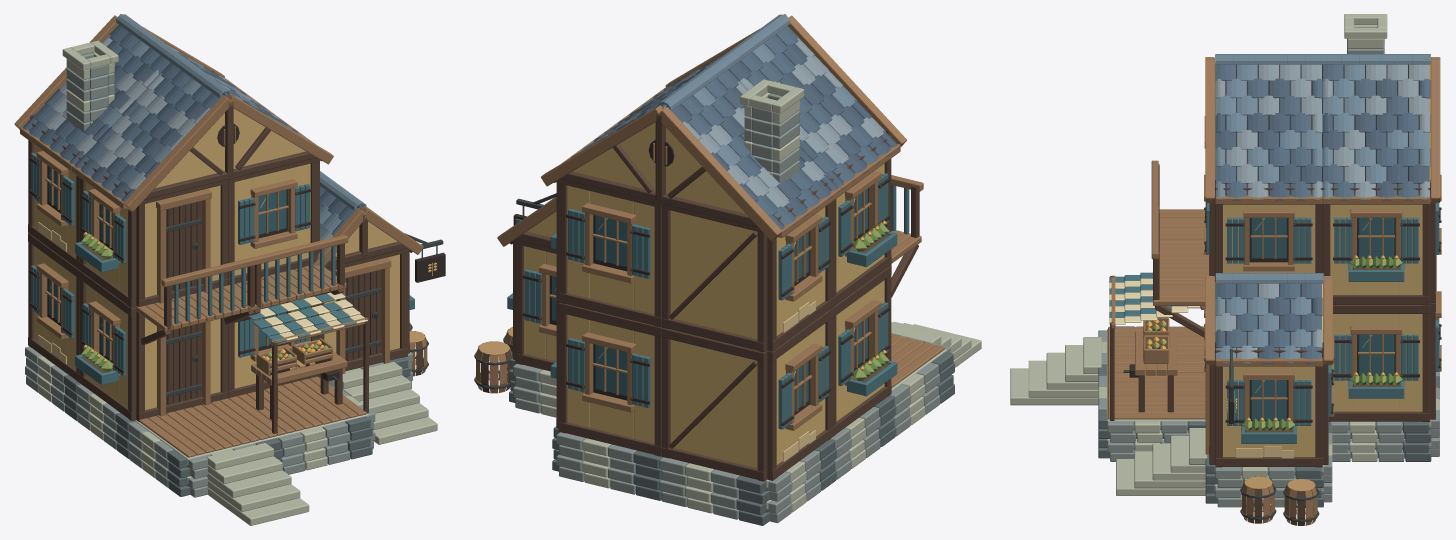
The model's file is merchant_steps.glb.
3 renders of one model, left to right at view 1: azimuth 30°, elevation 25°; view 2: azimuth 150°, elevation 25°; view 3: azimuth 270°, elevation 25°, orthographic. The views are drawn at different scales.
Parts seen in each view (by area): view 1: merchant_steps__066__roof_gable_4x2m__finish, merchant_steps__067__roof_gable_4x2m__finish, merchant_steps__068__gable_end_4m__structure, merchant_steps__090__attachment_steps_080__attachments, merchant_steps__087__attachment_balcony_2m__attachments, merchant_steps__051__wall_door_2m__structure, merchant_steps__059__wall_window_2m__finish, merchant_steps__089__attachment_market_awning__attachments, merchant_steps__051__wall_door_2m__finish, merchant_steps__075__floor_cell_2m__structure, merchant_steps__088__attachment_balcony_2m__attachments, merchant_steps__091__attachment_steps_080__attachments (+40 smaller); view 2: merchant_steps__066__roof_gable_4x2m__finish, merchant_steps__067__roof_gable_4x2m__finish, merchant_steps__013__wall_plain_2m__finish, merchant_steps__055__wall_plain_2m__finish, merchant_steps__069__gable_end_4m__structure, merchant_steps__065__wall_window_2m__finish, merchant_steps__033__wall_window_2m__finish, merchant_steps__033__wall_window_2m__structure, merchant_steps__065__wall_window_2m__structure, merchant_steps__016__wall_window_2m__structure, merchant_steps__013__wall_plain_2m__structure, merchant_steps__069__gable_end_4m__finish (+33 smaller); view 3: merchant_steps__067__roof_gable_4x2m__finish, merchant_steps__066__roof_gable_4x2m__finish, merchant_steps__070__roof_gable_2x2m__finish, merchant_steps__029__wall_window_2m__finish, merchant_steps__063__wall_window_2m__finish, merchant_steps__042__wall_window_2m__finish, merchant_steps__090__attachment_steps_080__attachments, merchant_steps__091__attachment_steps_080__attachments, merchant_steps__060__wall_window_2m__finish, merchant_steps__029__wall_window_2m__structure, merchant_steps__042__wall_window_2m__structure, merchant_steps__063__wall_window_2m__structure (+34 smaller).
Part boxes in pixels (x1,y1,x2,y2): merchant_steps__066__roof_gable_4x2m__finish: (73, 52, 307, 203); merchant_steps__067__roof_gable_4x2m__finish: (21, 14, 273, 165); merchant_steps__068__gable_end_4m__structure: (123, 93, 333, 211); merchant_steps__090__attachment_steps_080__attachments: (206, 443, 309, 525); merchant_steps__087__attachment_balcony_2m__attachments: (136, 256, 257, 344); merchant_steps__051__wall_door_2m__structure: (136, 179, 228, 306); merchant_steps__059__wall_window_2m__finish: (234, 163, 310, 275); merchant_steps__089__attachment_market_awning__attachments: (248, 292, 368, 433); merchant_steps__051__wall_door_2m__finish: (145, 185, 220, 297); merchant_steps__075__floor_cell_2m__structure: (139, 398, 277, 457); merchant_steps__088__attachment_balcony_2m__attachments: (229, 235, 348, 323); merchant_steps__091__attachment_steps_080__attachments: (342, 361, 437, 444); merchant_steps__066__roof_gable_4x2m__finish: (610, 14, 899, 188); merchant_steps__067__roof_gable_4x2m__finish: (571, 58, 839, 231); merchant_steps__013__wall_plain_2m__finish: (670, 339, 757, 468); merchant_steps__055__wall_plain_2m__finish: (670, 210, 757, 339); merchant_steps__069__gable_end_4m__structure: (541, 105, 782, 241); merchant_steps__065__wall_window_2m__finish: (567, 185, 654, 314); merchant_steps__033__wall_window_2m__finish: (567, 314, 654, 443); merchant_steps__033__wall_window_2m__structure: (558, 303, 661, 456); merchant_steps__065__wall_window_2m__structure: (558, 179, 661, 327); merchant_steps__016__wall_window_2m__structure: (767, 309, 832, 480); merchant_steps__013__wall_plain_2m__structure: (661, 328, 767, 481); merchant_steps__069__gable_end_4m__finish: (573, 122, 745, 213); merchant_steps__067__roof_gable_4x2m__finish: (1322, 54, 1430, 200); merchant_steps__066__roof_gable_4x2m__finish: (1215, 54, 1323, 200); merchant_steps__070__roof_gable_2x2m__finish: (1215, 273, 1323, 363); merchant_steps__029__wall_window_2m__finish: (1331, 314, 1422, 411); merchant_steps__063__wall_window_2m__finish: (1330, 204, 1422, 294); merchant_steps__042__wall_window_2m__finish: (1223, 366, 1315, 456); merchant_steps__090__attachment_steps_080__attachments: (1010, 337, 1101, 405); merchant_steps__091__attachment_steps_080__attachments: (1116, 428, 1207, 495); merchant_steps__060__wall_window_2m__finish: (1223, 204, 1315, 272); merchant_steps__029__wall_window_2m__structure: (1328, 305, 1430, 421); merchant_steps__042__wall_window_2m__structure: (1215, 348, 1322, 467); merchant_steps__063__wall_window_2m__structure: (1322, 186, 1430, 305).
Size of the model in its own units: 7.55 by 7.38 by 8.03.
